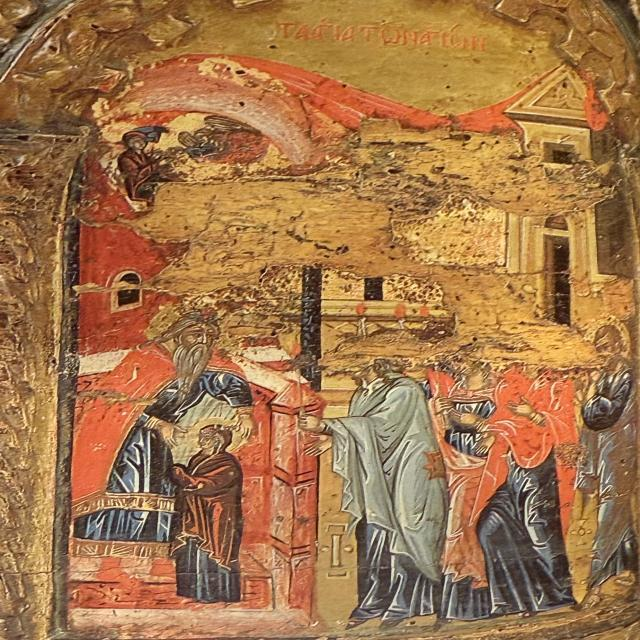angel: (160, 119, 263, 161)
aura: (137, 301, 240, 364), (188, 418, 250, 458)
saint: (64, 300, 230, 586), (163, 419, 257, 600)
wing: (203, 117, 263, 134), (177, 132, 199, 150)
